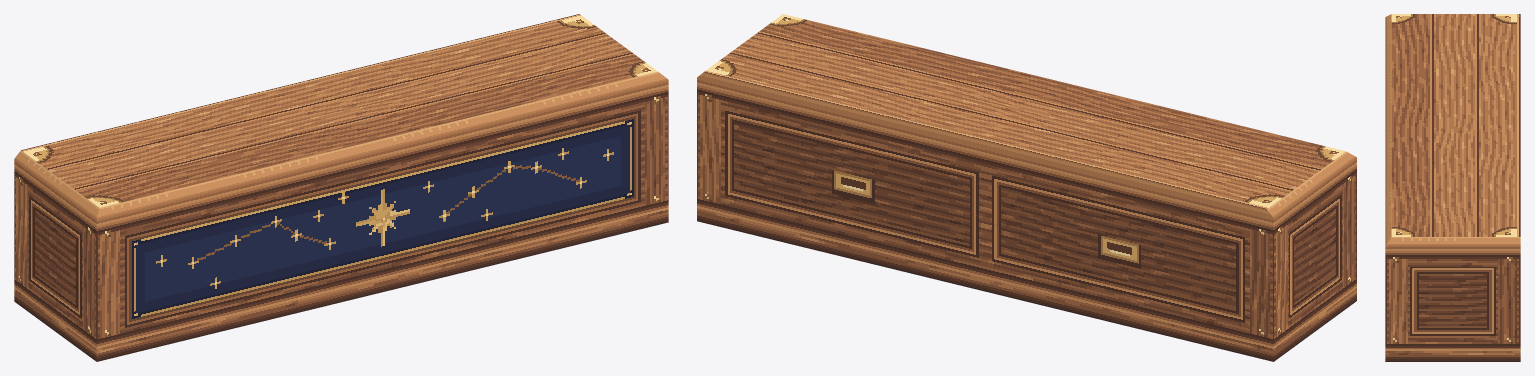
The model's file is counter.glb.
The picture shows the model from 3 angles, left to right: view 1: azimuth 30°, elevation 25°; view 2: azimuth 150°, elevation 25°; view 3: azimuth 270°, elevation 25°; orthographic projection. The views are drawn at different scales.
Visible parts, largest first — view 1: Surface; view 2: Surface; view 3: Surface.
Part boxes in pixels (x1,y1,x2,y2): Surface: (14,14,668,361); Surface: (697,14,1356,361); Surface: (1385,14,1520,361).
Size of the model in its own units: 4 by 1 by 1.
Materials: 1 (1 with a texture image).
